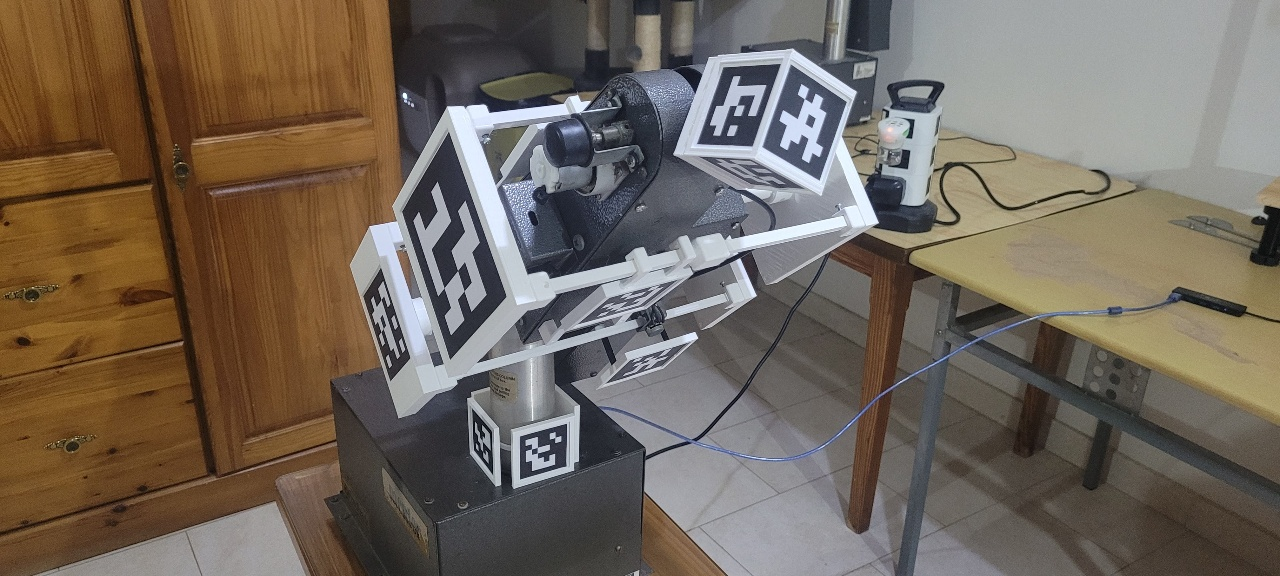Robot: (348, 47, 880, 492)
